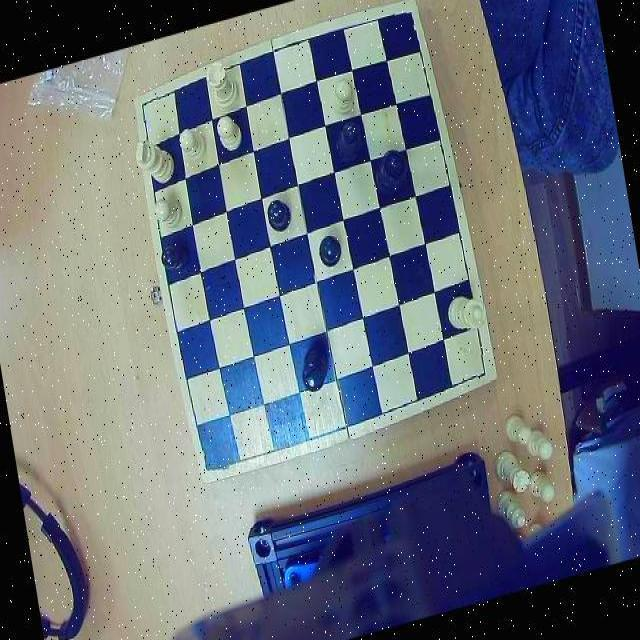chess-table-corners: (196, 444, 232, 482), (460, 352, 494, 388), (391, 1, 422, 36), (134, 92, 162, 123)
